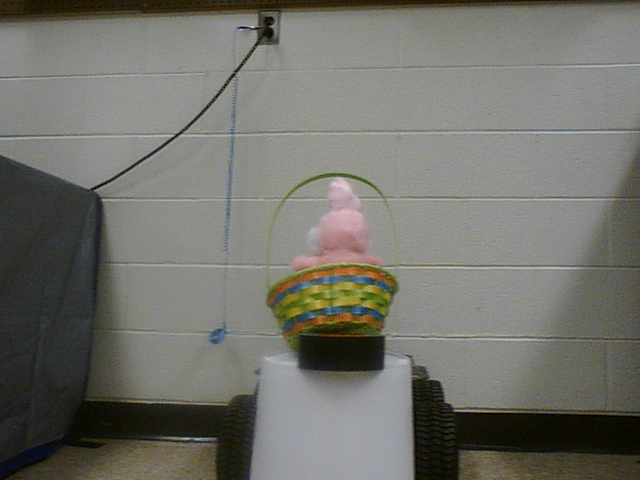bunny: (253, 161, 406, 366)
